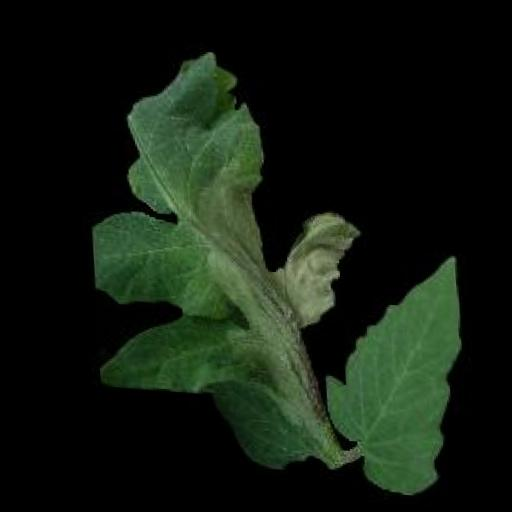Healthy: (305, 239, 470, 495)
Late Blight: (70, 40, 371, 466)
